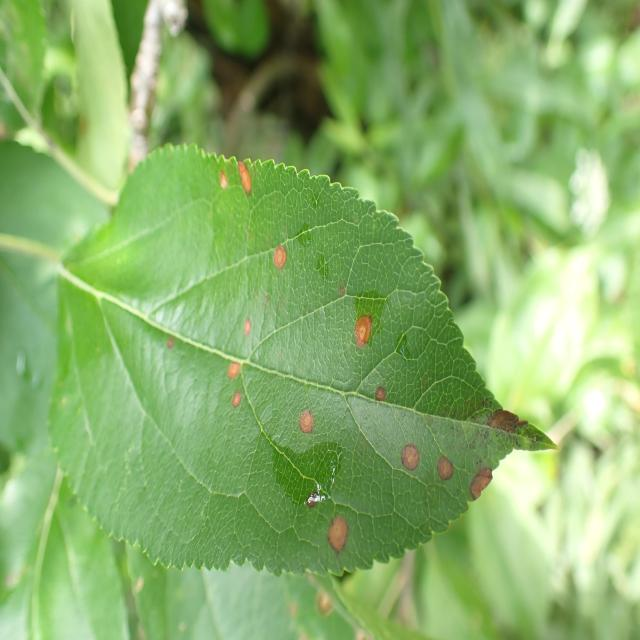Black Rot: (482, 390, 528, 456), (348, 301, 386, 357), (322, 506, 360, 561), (464, 457, 496, 514), (388, 439, 425, 487), (432, 437, 455, 506), (233, 303, 264, 350), (221, 378, 245, 437), (234, 158, 256, 218), (295, 406, 323, 453), (210, 151, 232, 206), (267, 239, 295, 281), (220, 355, 245, 386), (371, 382, 395, 411), (162, 319, 180, 354)
